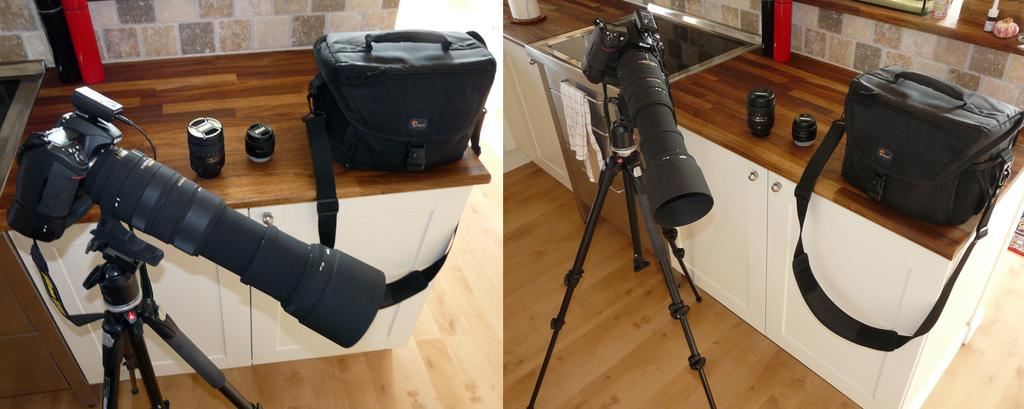Luggage-and-bags: (791, 62, 1023, 352), (301, 35, 499, 310)
